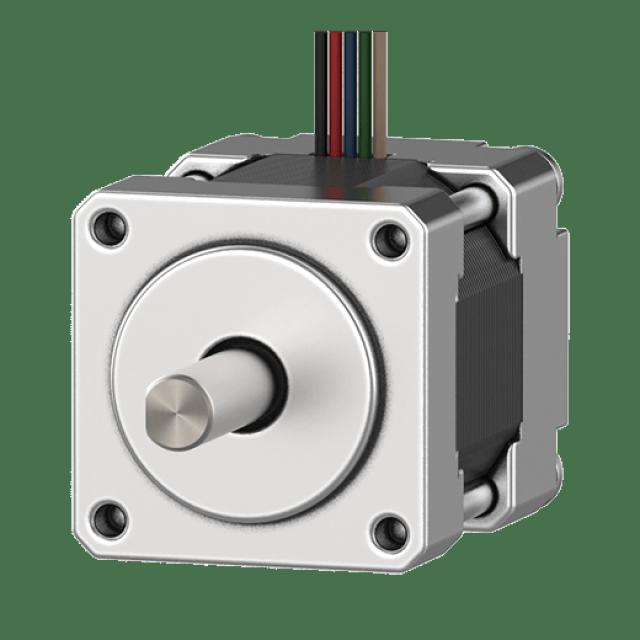motor: (70, 96, 571, 576)
